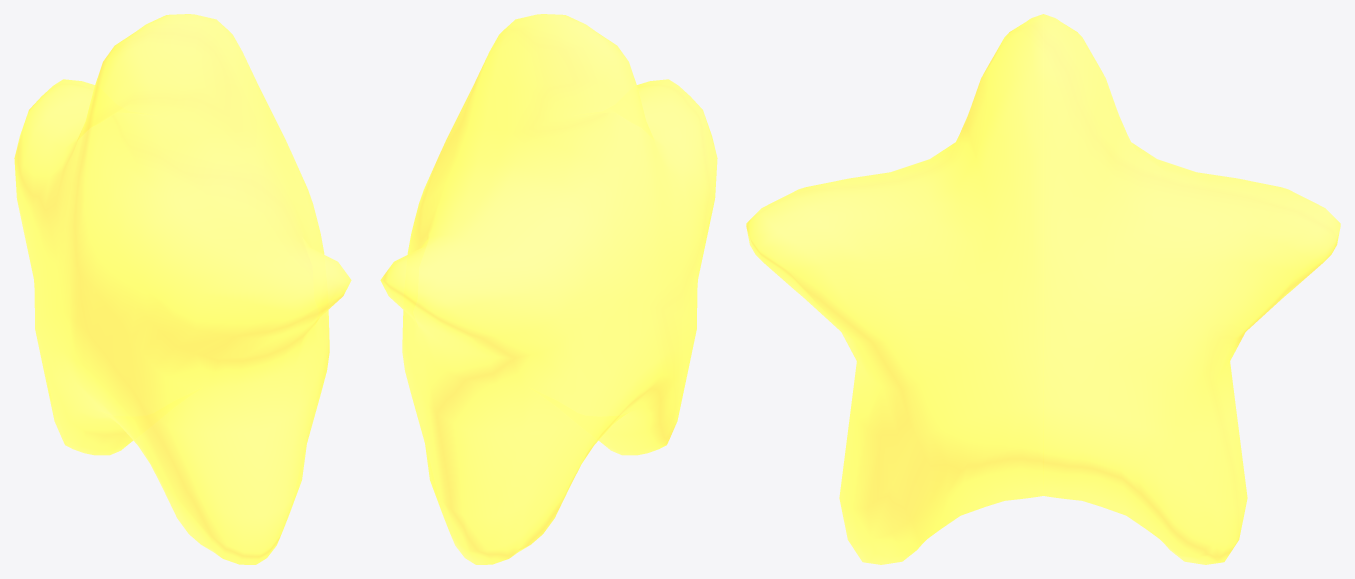
The model's file is star.FBX.
3 views of the same model, side by side, from view 1: azimuth 30°, elevation 25°; view 2: azimuth 150°, elevation 25°; view 3: azimuth 270°, elevation 25° (orthographic). The views are drawn at different scales.
Visible parts, largest first — view 1: Line001; view 2: Line001; view 3: Line001.
Part boxes in pixels (x1,y1,x2,y2): Line001: (14, 14, 351, 564); Line001: (380, 14, 717, 564); Line001: (746, 14, 1340, 564).
Size of the model in its own units: 76.99 by 147 by 147.
